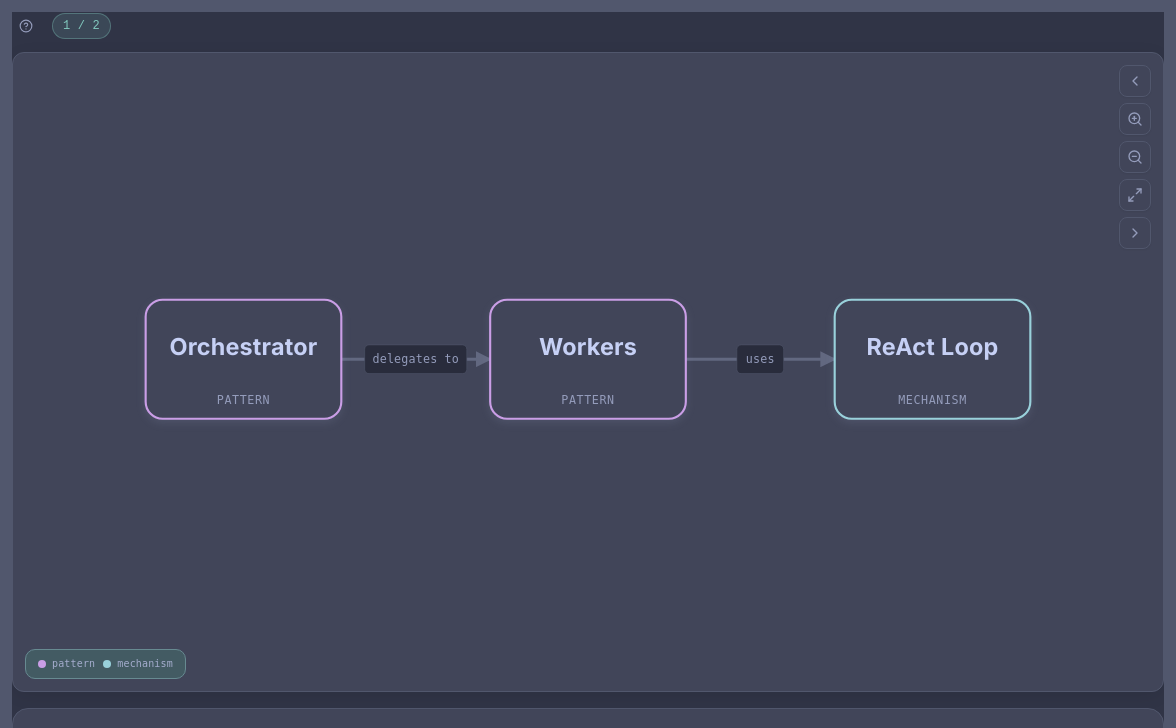
ConceptMap Section › switches graph on next button click
The width and height of the screenshot is (1176, 728).
Click the button with test id "concept-map-graph-next".
click(1135, 233)  # box left=1119, top=217, right=1151, bottom=249
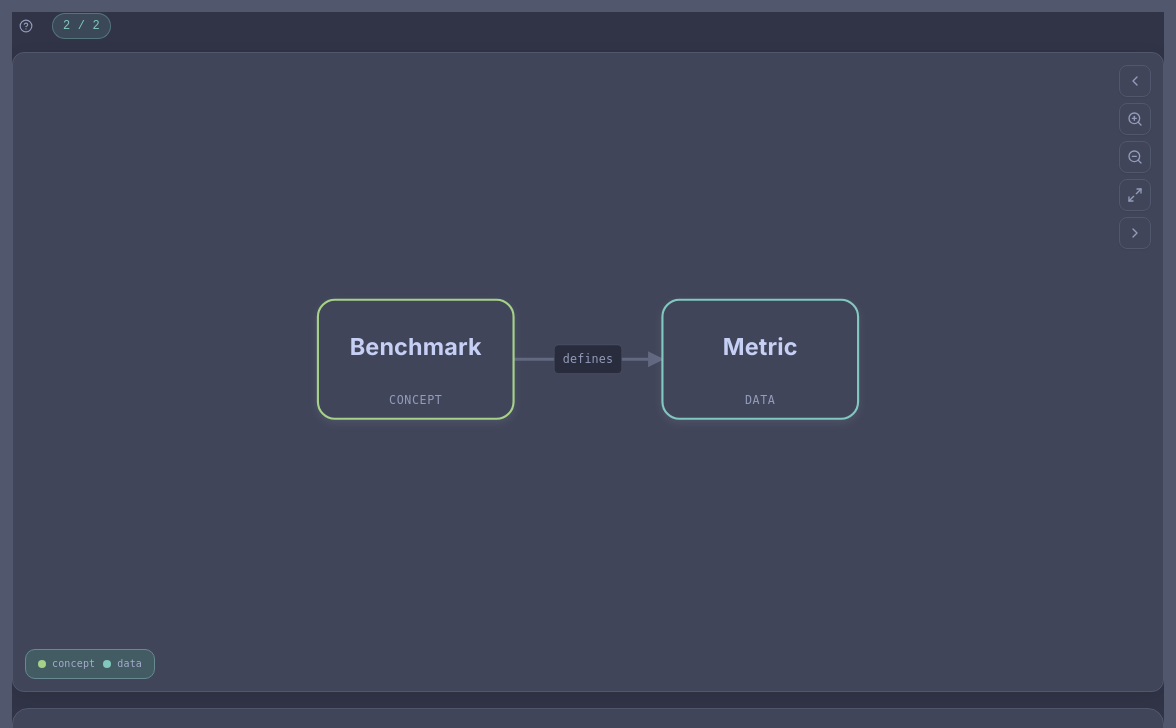
Expected: the text with test id "concept-map-graph-badge" reads "2 / 2", left=52, top=13, right=111, bottom=39
